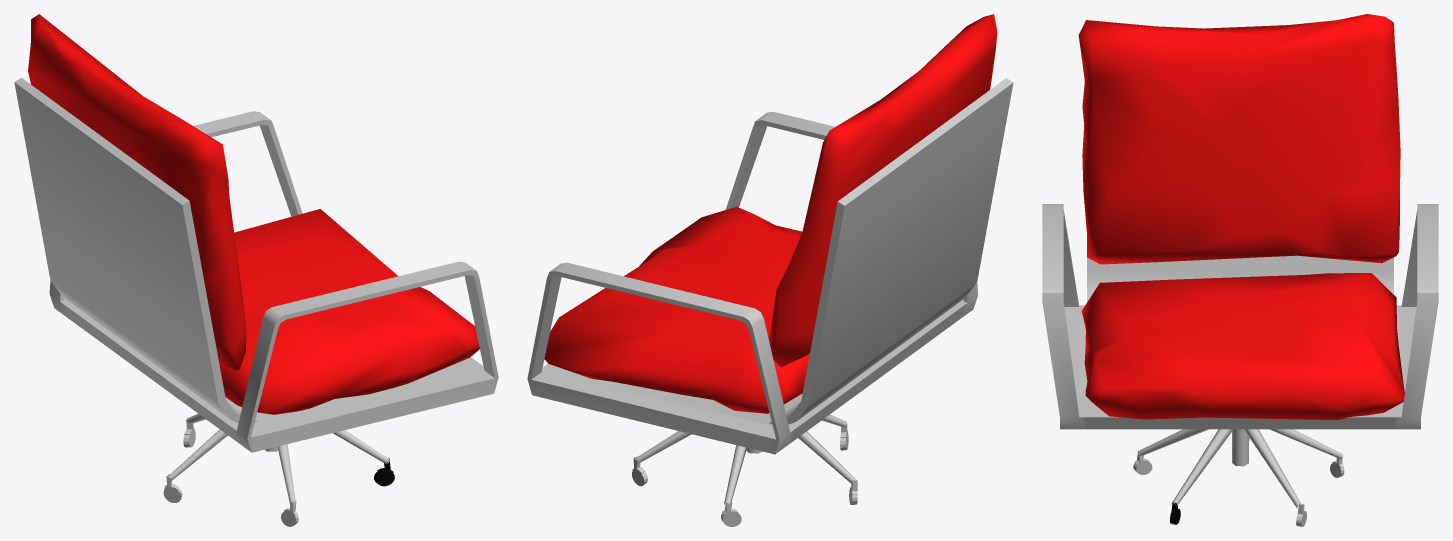
Rendered from sillon_metal.FBX.
3 renders of one model, left to right at view 1: azimuth 30°, elevation 25°; view 2: azimuth 150°, elevation 25°; view 3: azimuth 270°, elevation 25°, orthographic. The views are drawn at different scales.
Visible parts, largest first — view 1: Object001; view 2: Object001; view 3: Object001.
Part boxes in pixels (left/top/right/bottom): Object001: left=14, top=14, right=498, bottom=526; Object001: left=527, top=14, right=1013, bottom=526; Object001: left=1042, top=14, right=1438, bottom=526.
Bounding box in the file's own units: 80.02 × 112 × 99.04.
